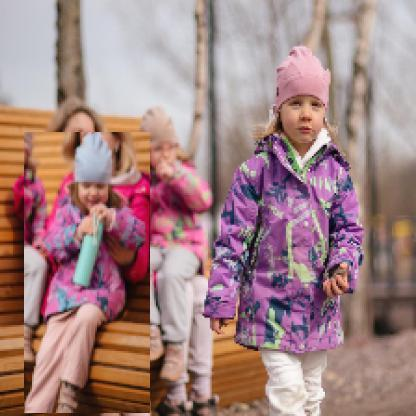child: (200, 46, 367, 416), (25, 133, 152, 415), (126, 107, 215, 380)
